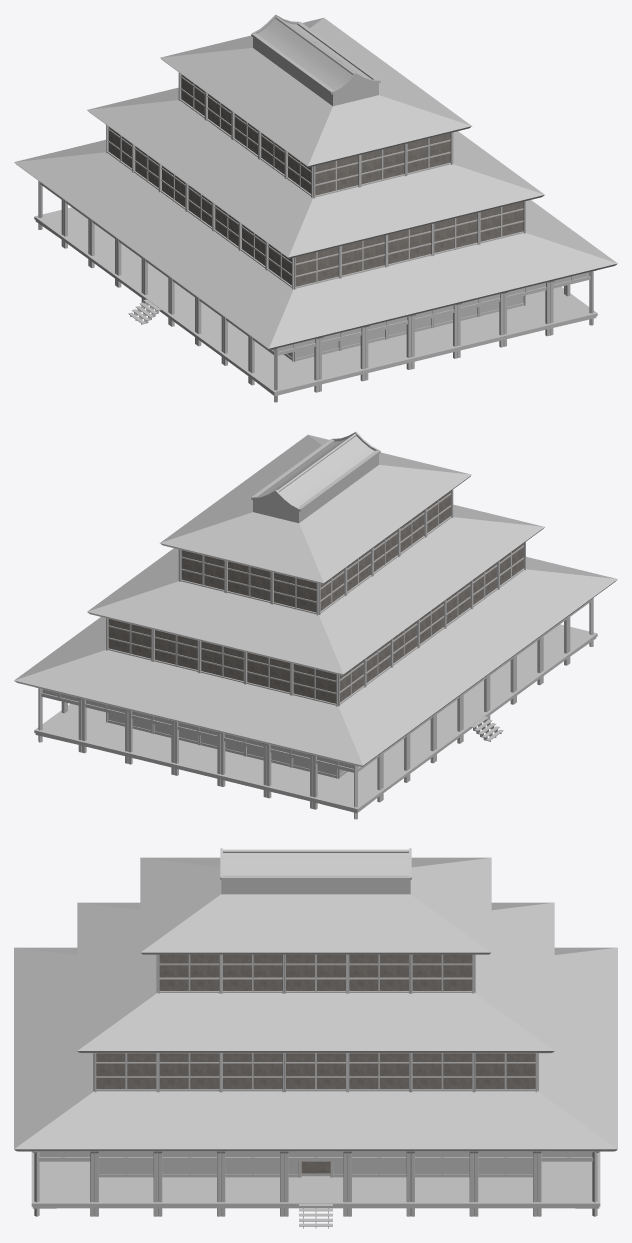
Rendered from Japanese Buildings 7.fbx.
The picture shows the model from 3 angles, top to bottom: view 1: azimuth 30°, elevation 25°; view 2: azimuth 150°, elevation 25°; view 3: azimuth 270°, elevation 25°; orthographic projection. The views are drawn at different scales.
Visible parts, largest first — view 1: Japanese_Buildings_7; view 2: Japanese_Buildings_7; view 3: Japanese_Buildings_7.
Boxes of the visible parts, box(x1,y1,x2,y2) form: Japanese_Buildings_7: box(14, 14, 617, 402); Japanese_Buildings_7: box(14, 431, 617, 819); Japanese_Buildings_7: box(14, 848, 617, 1228).
Size of the model in its own units: 1564 by 963 by 1911.
